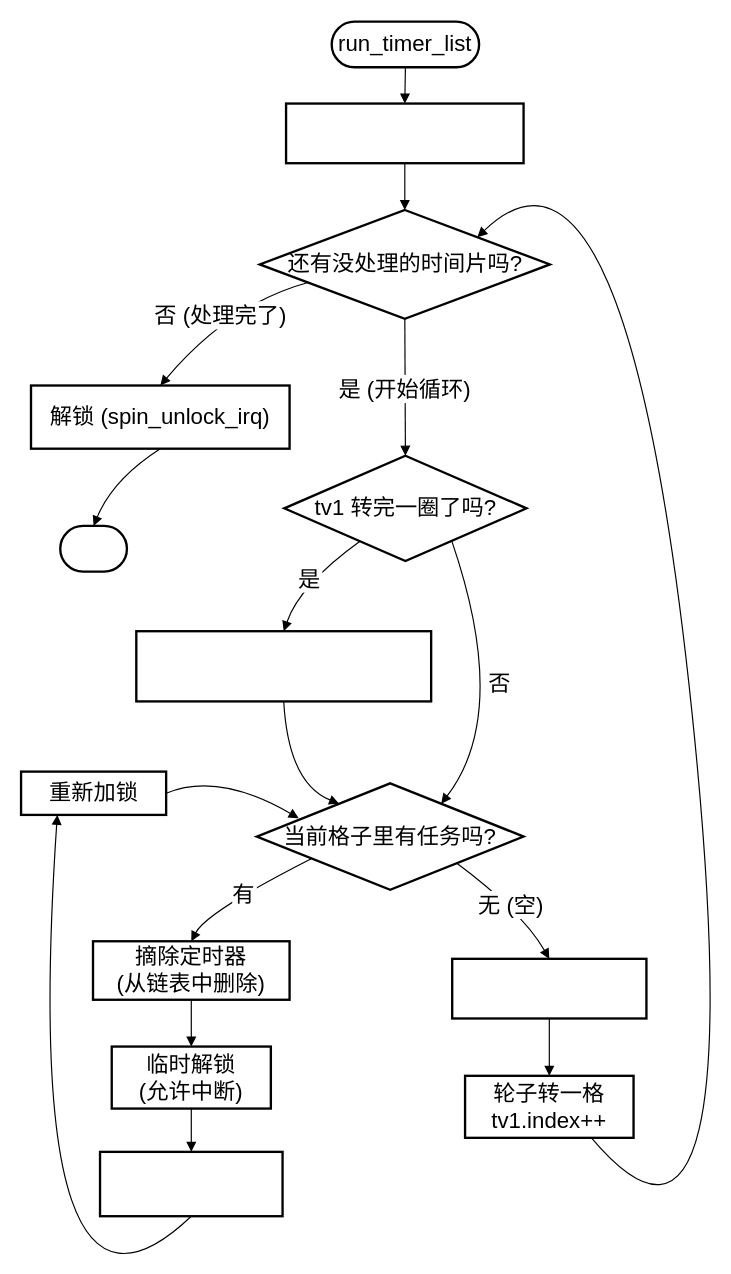
Some shapes in this 731 by 1274 pixel diagram are drawn without their labels. The box of each missing label's shape, as (x1, y1, x2, y2) in pixels:
加锁 (spin_lock_irq) 保护时间轮数据: (284, 102, 524, 164)
执行回调函数 fn(data): (98, 1150, 283, 1217)
推进时间 timer_jiffies++: (450, 957, 647, 1019)
级联 (Cascade) 把高层轮子的任务搬到底层: (135, 629, 432, 702)
结束: (58, 524, 128, 572)
